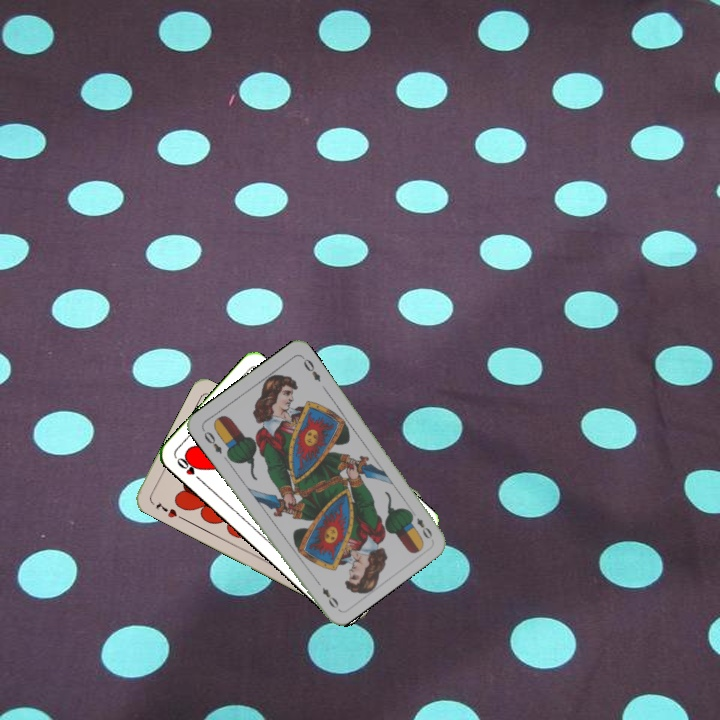EO: (406, 507, 435, 542), (200, 427, 225, 457)
H7: (152, 498, 180, 520)
HO: (173, 453, 205, 485)
